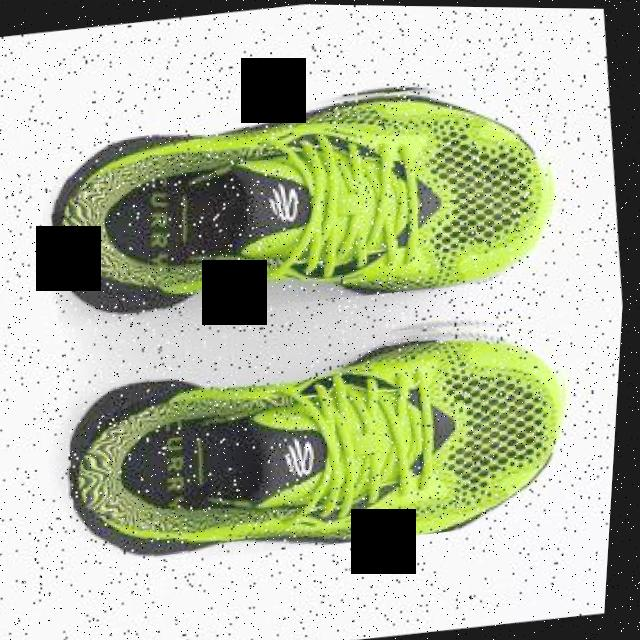shoe: (58, 295, 590, 577), (37, 60, 572, 333)
